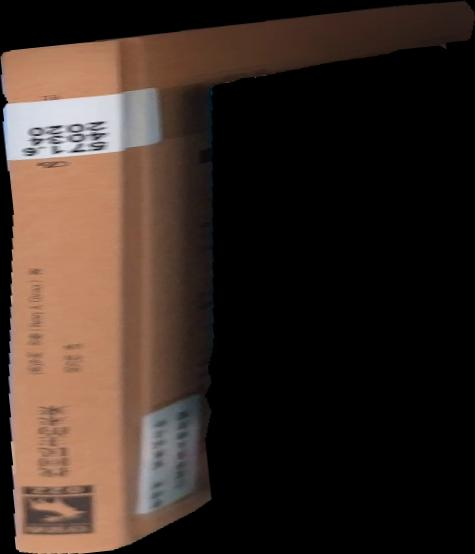reverse: (1, 1, 475, 554)
